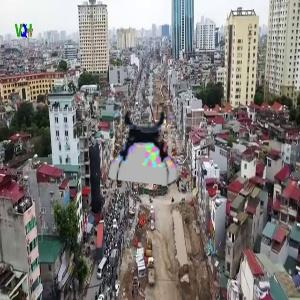drone: (106, 106, 184, 184)
